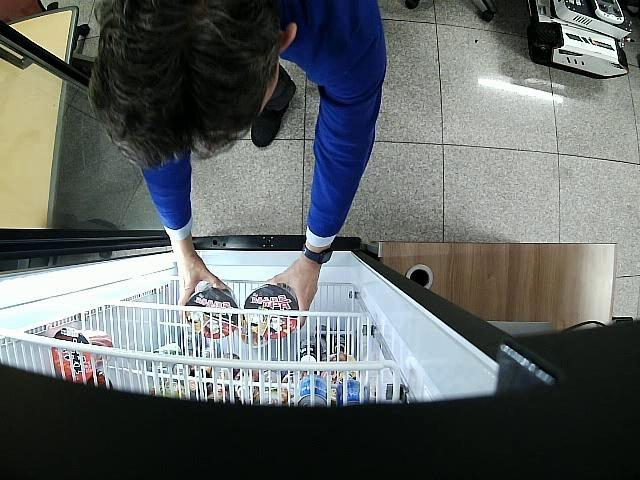07_buldak_L: (242, 284, 299, 340), (185, 279, 239, 338)
